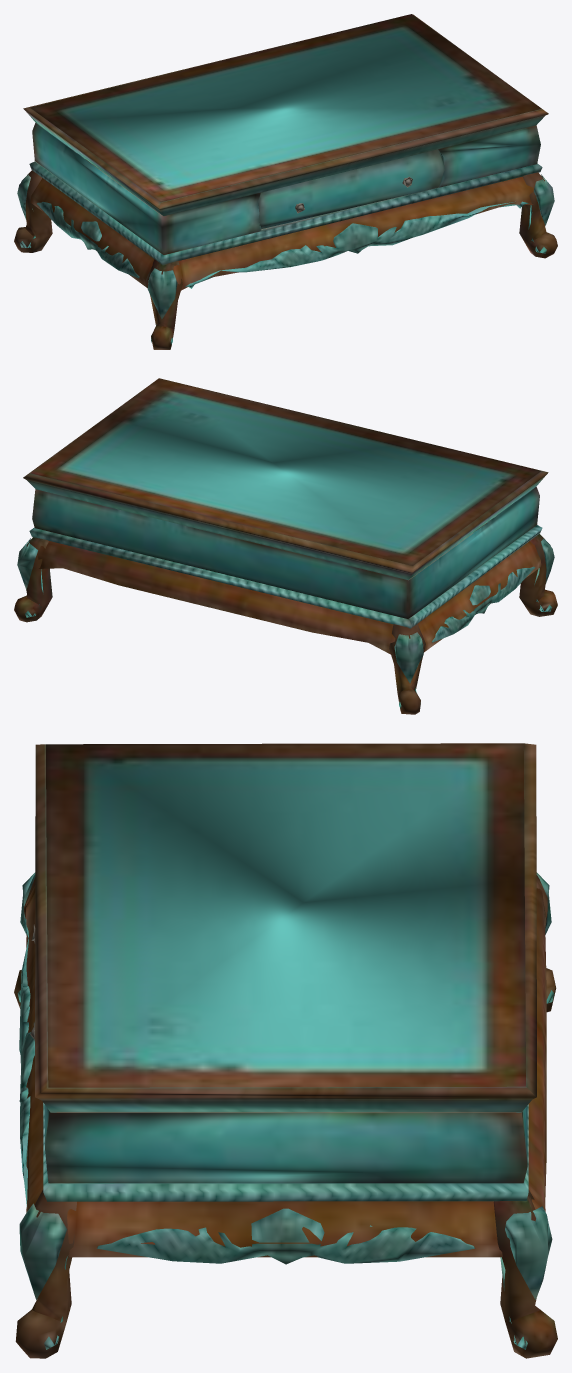
The model's file is coffeetable_01.glb.
The picture shows the model from 3 angles, top to bottom: view 1: azimuth 30°, elevation 25°; view 2: azimuth 150°, elevation 25°; view 3: azimuth 270°, elevation 25°; orthographic projection. The views are drawn at different scales.
Parts seen in each view (by area): view 1: CoffeeTable_01; view 2: CoffeeTable_01; view 3: CoffeeTable_01.
Part boxes in pixels (<box>): CoffeeTable_01: <box>14,14,557,349</box>; CoffeeTable_01: <box>14,378,557,714</box>; CoffeeTable_01: <box>14,743,557,1358</box>.
Bounding box in the file's own units: 1.53 × 0.5212 × 0.9728.
Materials: 1 (1 with a texture image).
